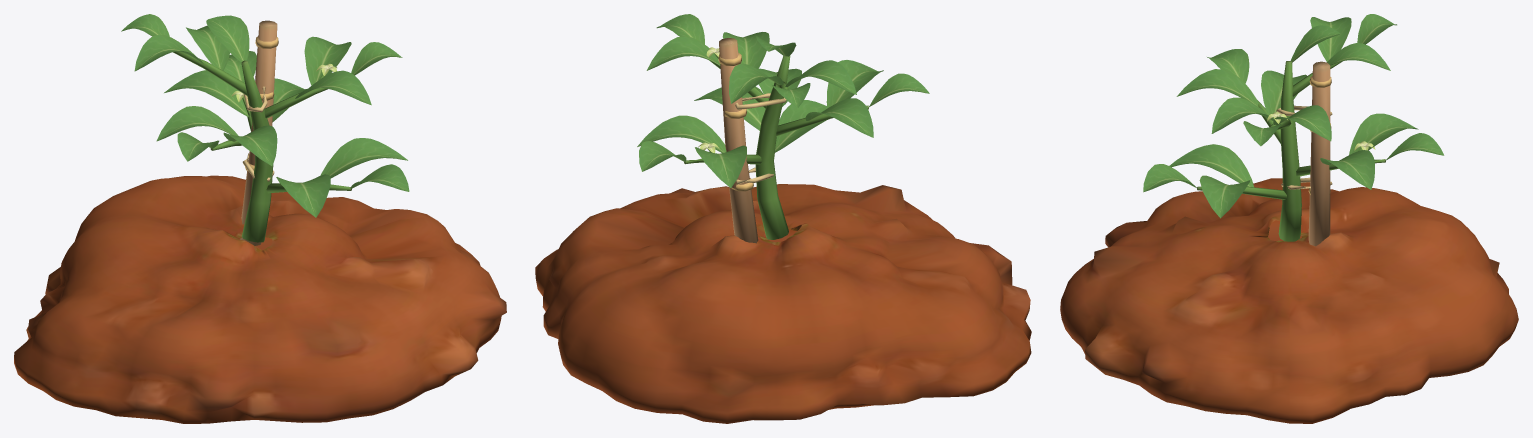
3 renders of one model, left to right at view 1: azimuth 30°, elevation 25°; view 2: azimuth 150°, elevation 25°; view 3: azimuth 270°, elevation 25°, orthographic. The views are drawn at different scales.
Parts seen in each view (by area): view 1: pepper-growing; view 2: pepper-growing; view 3: pepper-growing.
Part boxes in pixels (left/top/right/bottom): pepper-growing: left=14, top=14, right=506, bottom=423; pepper-growing: left=535, top=14, right=1031, bottom=423; pepper-growing: left=1060, top=14, right=1518, bottom=423.
Bounding box in the file's own units: 0.7926 × 0.502 × 0.7345.
1 material, 1 textured.
